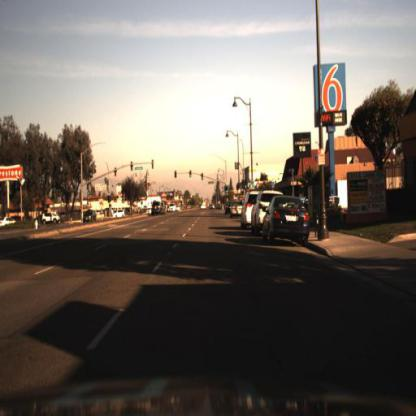car: (260, 194, 315, 248), (264, 194, 311, 248), (251, 191, 265, 240), (240, 190, 256, 232), (81, 206, 99, 231), (39, 210, 62, 228), (42, 207, 63, 224), (149, 199, 164, 220), (82, 208, 98, 225), (111, 206, 128, 222), (221, 199, 233, 220)
